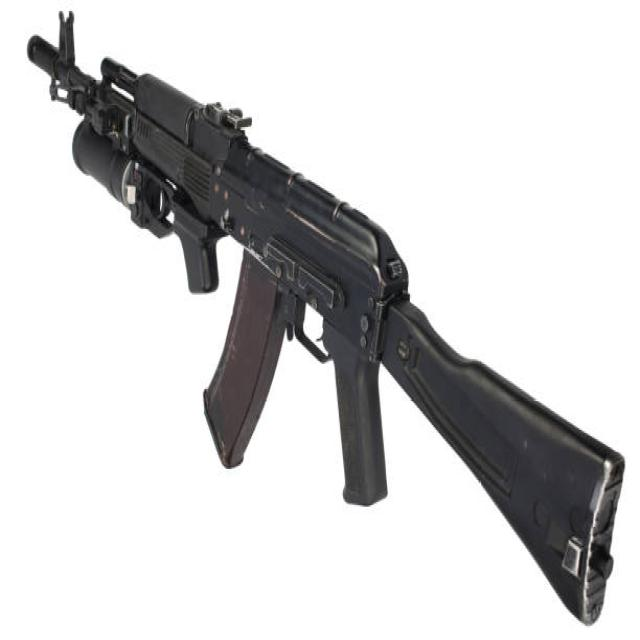rifle: (22, 9, 626, 640)
